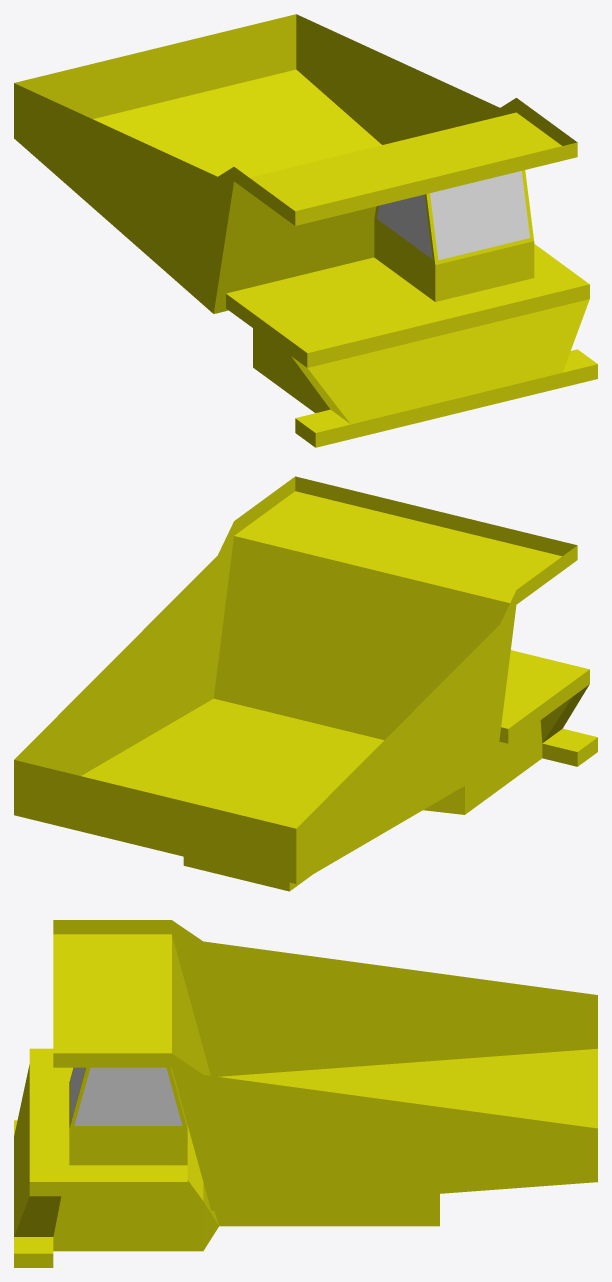
File: LargeDumpTruck.glb
The picture shows the model from 3 angles, top to bottom: view 1: azimuth 30°, elevation 25°; view 2: azimuth 150°, elevation 25°; view 3: azimuth 270°, elevation 25°; orthographic projection. The views are drawn at different scales.
Parts seen in each view (by area): view 1: Back, Body; view 2: Back, Body; view 3: Back, Body.
Part boxes in pixels (left/top/right/bottom): Back: left=14, top=14, right=577, bottom=313; Body: left=226, top=170, right=597, bottom=447; Back: left=14, top=476, right=577, bottom=883; Body: left=183, top=650, right=597, bottom=891; Back: left=53, top=920, right=597, bottom=1210; Body: left=14, top=1048, right=439, bottom=1267.
Size of the model in its own units: 4 by 3 by 7.4.
